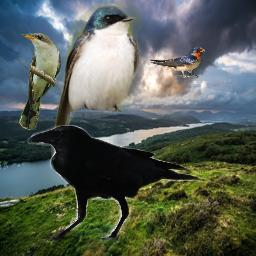Crow: (27, 125, 204, 243)
Cuckoo: (19, 33, 61, 130)
Swallow: (53, 0, 142, 155), (150, 47, 205, 78)
